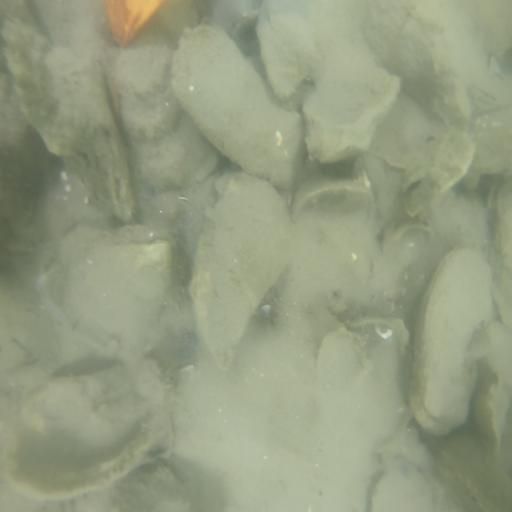Oyster-Closed: (169, 27, 300, 188), (194, 176, 290, 367), (113, 51, 211, 194), (417, 250, 492, 417), (257, 1, 369, 102)
